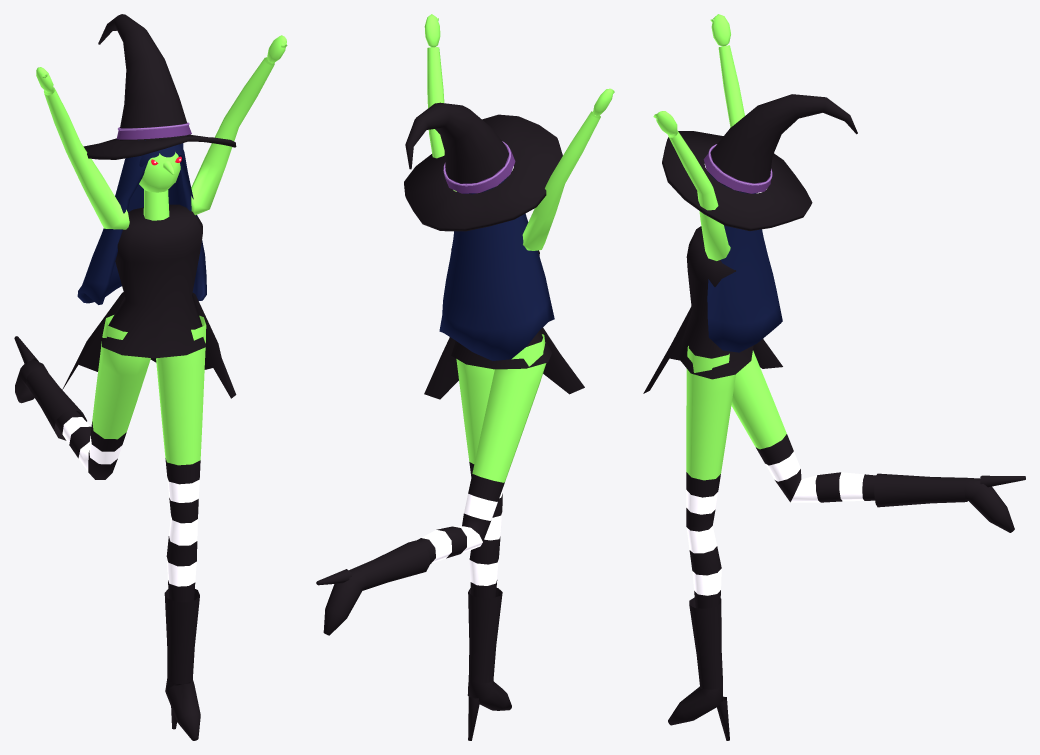
Rendered from witch_hop.glb.
The picture shows the model from 3 angles, left to right: view 1: azimuth 30°, elevation 25°; view 2: azimuth 150°, elevation 25°; view 3: azimuth 270°, elevation 25°; orthographic projection. The views are drawn at different scales.
Parts seen in each view (by area): view 1: HWG_Witch_hop; view 2: HWG_Witch_hop; view 3: HWG_Witch_hop.
Boxes of the visible parts, x1,y1,x2,y2 form: HWG_Witch_hop: [14, 14, 287, 740]; HWG_Witch_hop: [316, 14, 614, 740]; HWG_Witch_hop: [643, 14, 1025, 740].
Bounding box in the file's own units: 0.4529 × 1.39 × 0.7246.
